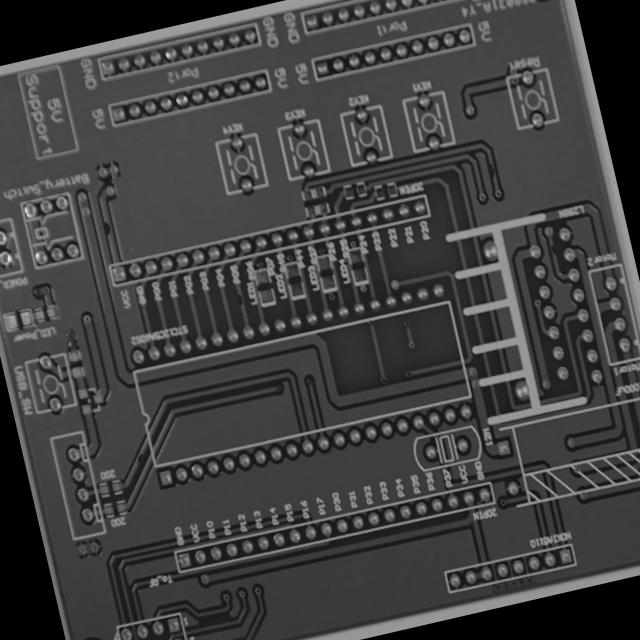mouse_bite: (98, 214, 116, 238), (484, 160, 501, 180), (546, 241, 562, 260), (232, 289, 246, 308), (132, 450, 148, 466)
